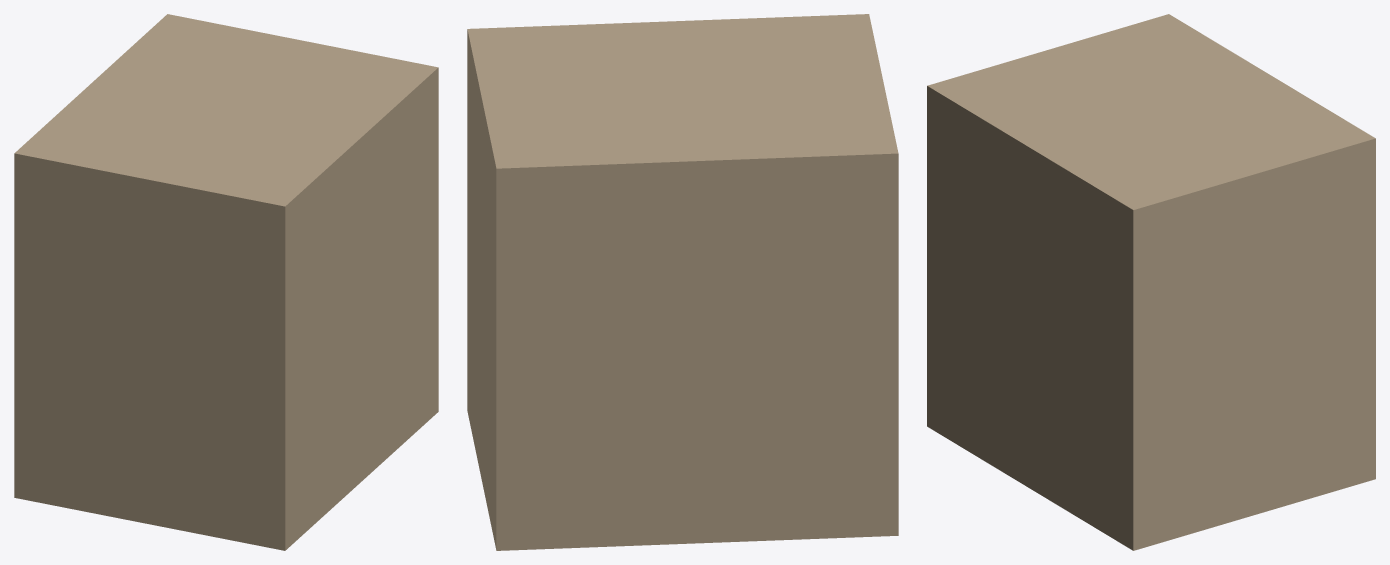
Rendered from bld_106297693.dae.
3 renders of one model, left to right at view 1: azimuth 30°, elevation 25°; view 2: azimuth 150°, elevation 25°; view 3: azimuth 270°, elevation 25°, orthographic. The views are drawn at different scales.
Visible parts, largest first — view 1: bld_106297693; view 2: bld_106297693; view 3: bld_106297693.
Part boxes in pixels (x1,y1,x2,y2): bld_106297693: (14, 14, 438, 550); bld_106297693: (467, 14, 898, 550); bld_106297693: (927, 14, 1375, 550).
Size of the model in its own units: 9.88 by 9.55 by 8.
